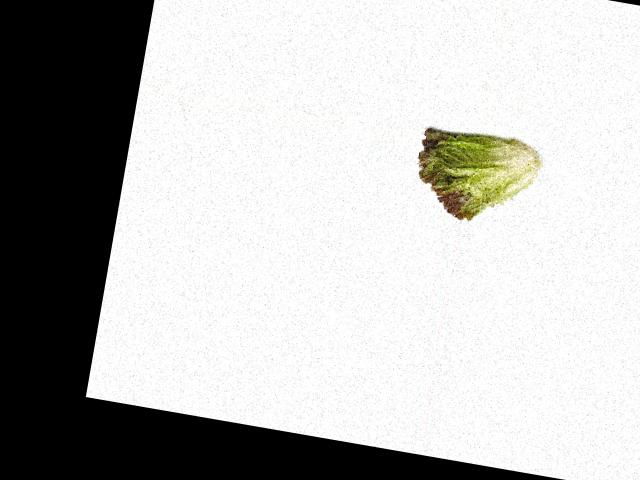lettuce: (407, 125, 544, 229)
